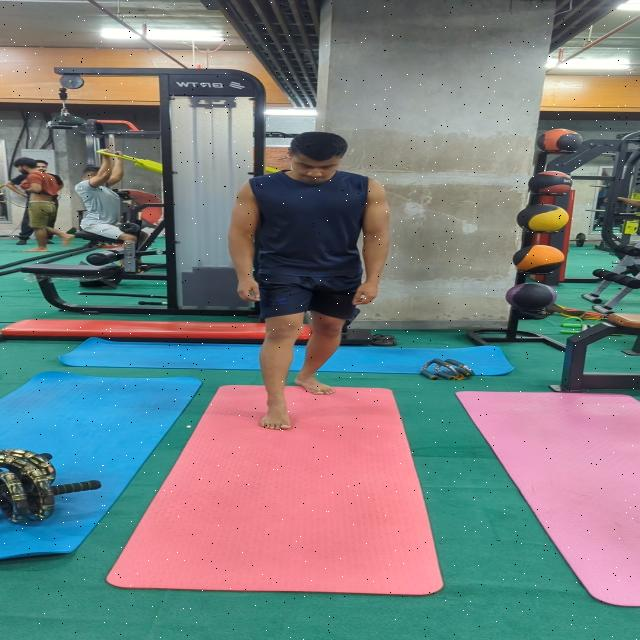Normal_Lunges: (227, 129, 393, 436)
